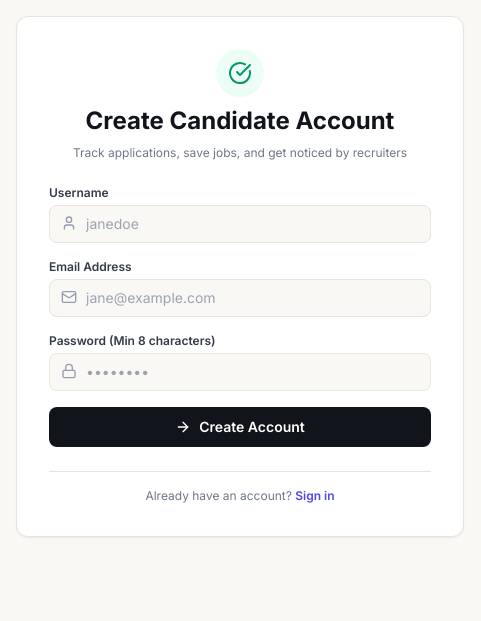
Scenario: Candidate Authentication UX › renders registration form and prevents submission with password < 8 characters
The width and height of the screenshot is (481, 621).
Check: the heading "Create Candidate Account" is shown, box top-left (86, 106), bottom-right (394, 135)
Type "newuser" into the field labelled "Username". click: (240, 224)
box: top-left (49, 205), bottom-right (431, 243)
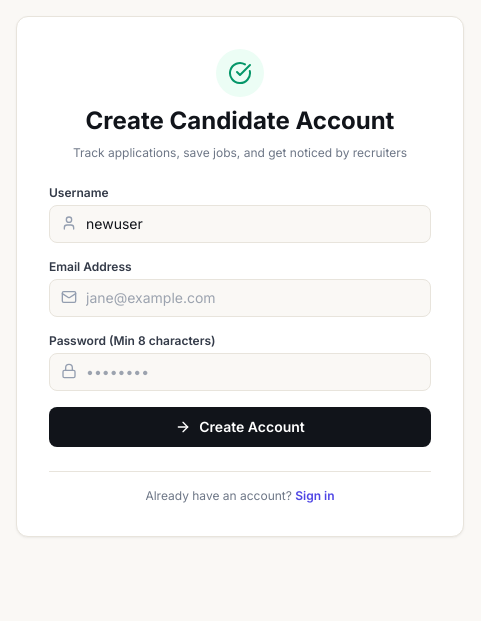
Type "new@example.com" into the field labelled "Email Address". click: (240, 298)
box: top-left (49, 279), bottom-right (431, 317)
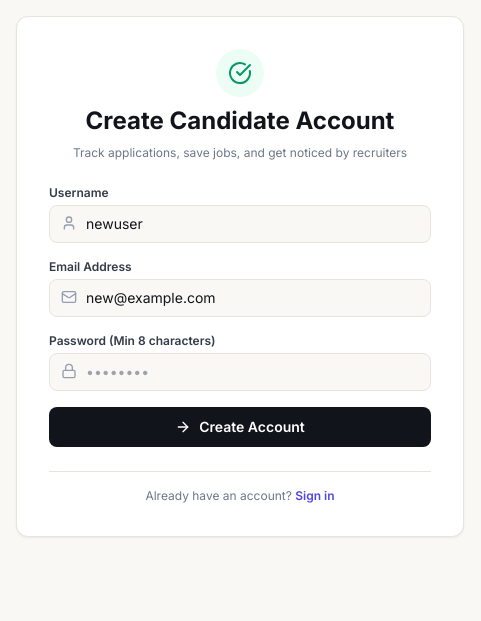
Type "short" into the password field labelled "Password (Min 8 characters)". click: (240, 372)
box: top-left (49, 353), bottom-right (431, 391)
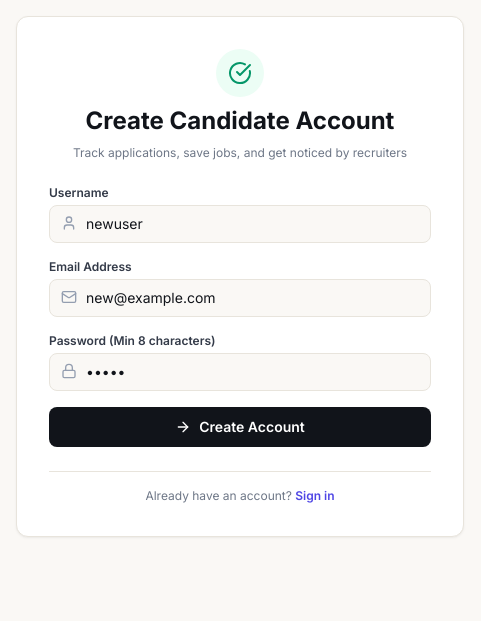
Click the button "Create Account". click: (240, 427)
box: top-left (49, 407), bottom-right (431, 447)
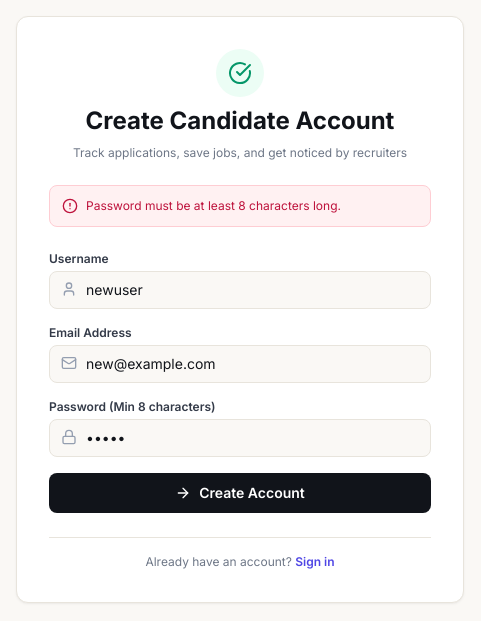
Check: the text "Password must be at least 8 characters long." is shown, box top-left (86, 198), bottom-right (341, 214)
